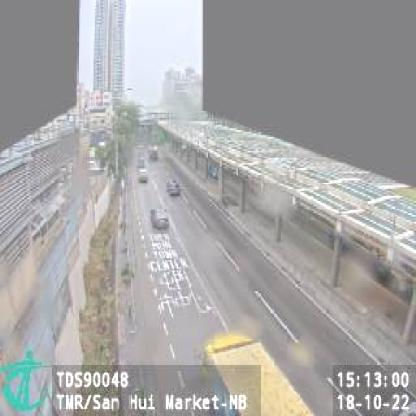Car: (152, 204, 169, 229), (168, 177, 182, 196), (137, 165, 149, 182)
Truck: (203, 335, 325, 415)
